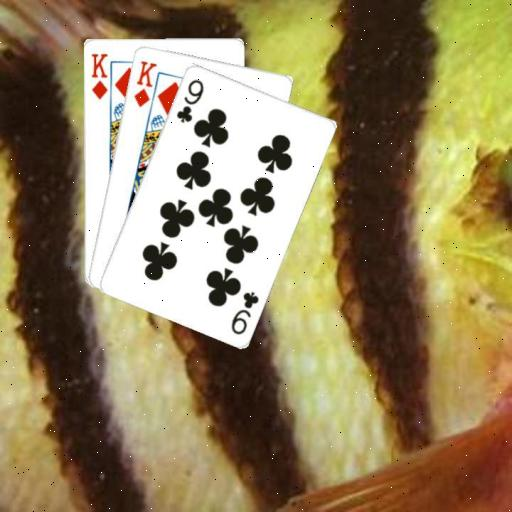9C: (173, 76, 205, 125), (228, 288, 260, 336)
KD: (130, 57, 158, 109), (89, 50, 109, 101)
